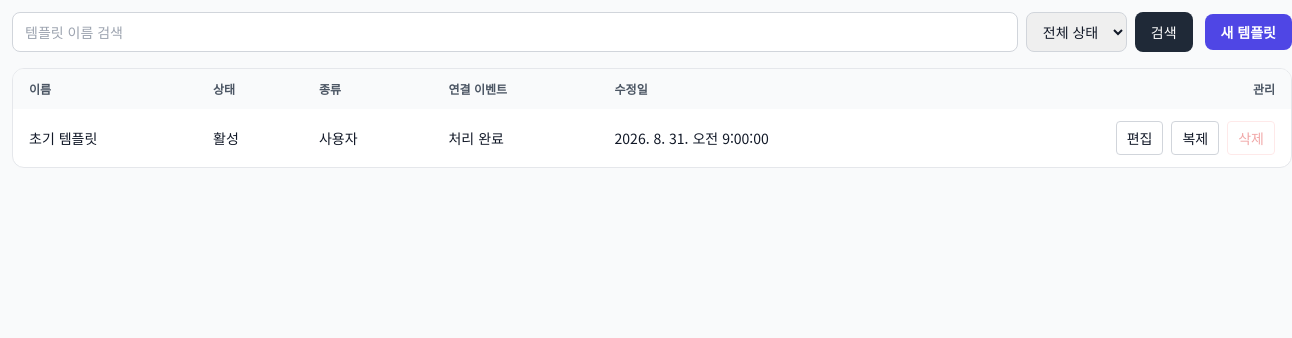
Test: EmailTemplateListPanel › 이전 필터 요청이 늦게 끝나도 최신 목록을 덮어쓰지 않는다
Expected: the text "초기 템플릿" is shown, [13,109,197,167]
Select "활성" in the dropdown named "활성 상태" at (1076, 32), box [1026,12,1127,52]
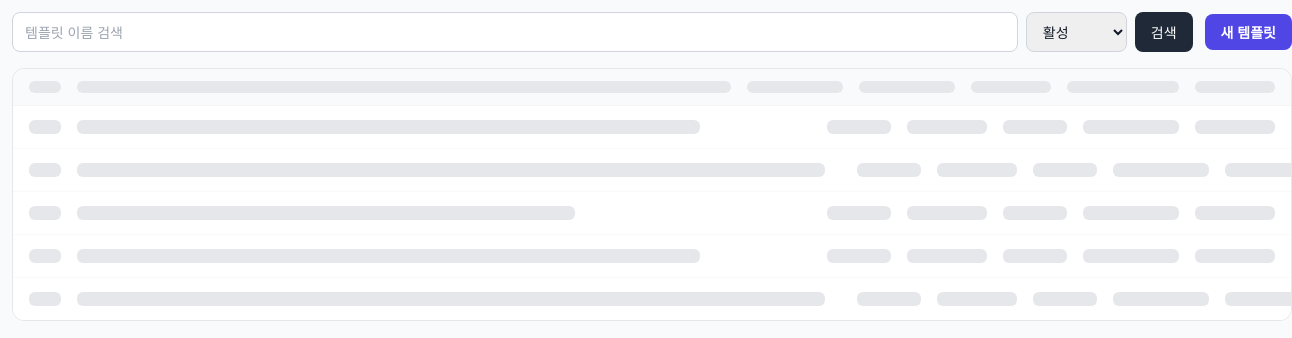
Select "비활성" in the dropdown named "활성 상태" at (1076, 32), box [1026,12,1127,52]
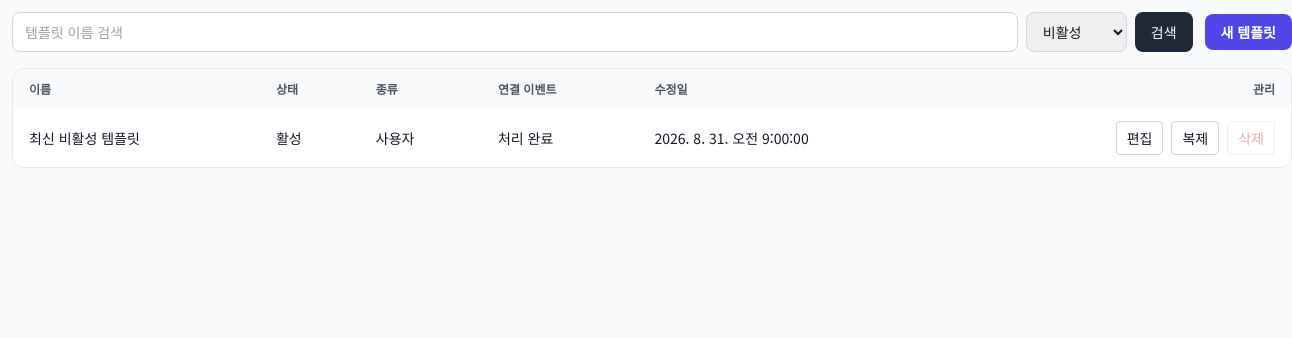
Now the text "최신 비활성 템플릿" is shown, box [13,109,260,167]
